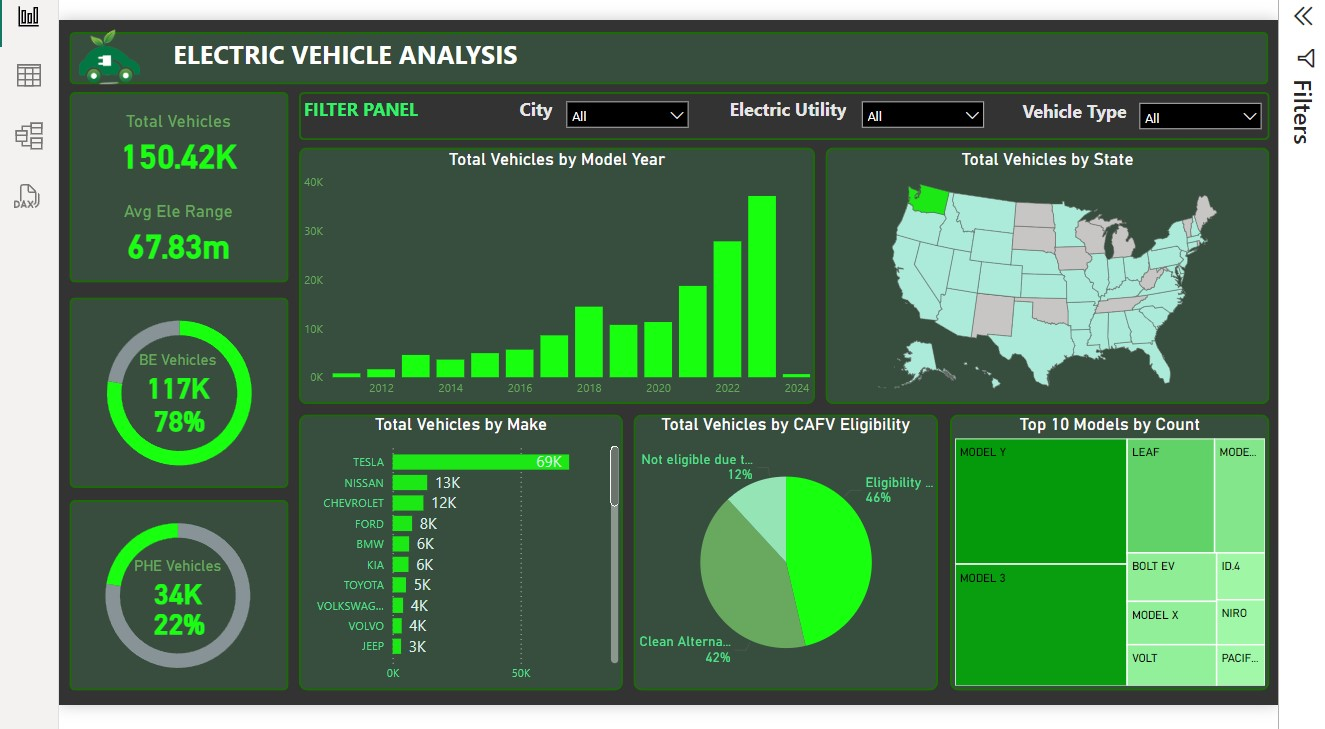

This screenshot's page, from the dashboard's own definition file:
{"tool":"powerbi","page":{"name":"Page 1","canvas":[1280,720],"ordinal":0},"visuals":[{"type":"shape","box":[11.5,12.9,1258.9,55],"z":0},{"type":"shape","box":[11,75.6,230,200],"z":1000},{"type":"textbox","box":[115,12.9,408.1,50.3],"z":2000},{"type":"shape","box":[11,291.4,230,200],"z":3000},{"type":"shape","box":[11,504,230,200],"z":4000},{"type":"card","title":"Total Vehicles","fields":{"Values":["Electric_Vehicle_Population_Data.Total Vehicles"]},"box":[34.7,96.1,181.1,69.3],"z":5000},{"type":"card","title":"Avg Ele Range","fields":{"Values":["Electric_Vehicle_Population_Data.Avg Range"]},"box":[34.7,190.6,181.1,69.3],"z":6000},{"type":"donutChart","fields":{"Category":["Electric_Vehicle_Population_Data.Electric Vehicle Type"],"Y":["Electric_Vehicle_Population_Data.Total Vehicles"]},"box":[11,291.4,230,200],"z":7000},{"type":"card","title":"BE Vehicles","fields":{"Values":["Electric_Vehicle_Population_Data.BEV vehicles"]},"box":[52,348.1,144.9,55.1],"z":8000},{"type":"card","title":"BE Vehicles","fields":{"Values":["Electric_Vehicle_Population_Data.% of BEV"]},"box":[53.6,392.2,144.9,55.1],"z":8001},{"type":"donutChart","fields":{"Category":["Electric_Vehicle_Population_Data.Electric Vehicle Type"],"Y":["Electric_Vehicle_Population_Data.Total Vehicles"]},"box":[9.5,504,230,200],"z":8002},{"type":"card","title":"PHE Vehicles","fields":{"Values":["Electric_Vehicle_Population_Data.PHEV"]},"box":[52,563.9,144.9,55.1],"z":8003},{"type":"card","title":"BE Vehicles","fields":{"Values":["Electric_Vehicle_Population_Data.% of PHEV"]},"box":[53.6,604.8,144.9,55.1],"z":8004},{"type":"shape","box":[252,75.6,1019.1,50.4],"z":8005},{"type":"shape","box":[252,133.9,541.8,269.3],"z":8006},{"type":"lineStackedColumnComboChart","fields":{"Y":["Electric_Vehicle_Population_Data.Total Vehicles"],"Category":["Electric_Vehicle_Population_Data.Model Year"]},"box":[252,135.5,541.8,269.3],"z":8007},{"type":"shape","box":[804.9,133.9,466.2,269.3],"z":8008},{"type":"shapeMap","fields":{"Category":["Electric_Vehicle_Population_Data.State"],"Value":["Electric_Vehicle_Population_Data.Total Vehicles"]},"box":[804.9,135.5,466.2,267.8],"z":8009},{"type":"shape","box":[252,414.2,340.2,289.8],"z":8010},{"type":"shape","box":[603.3,414.2,319.7,289.8],"z":8011},{"type":"clusteredBarChart","fields":{"Category":["Electric_Vehicle_Population_Data.Make"],"Y":["Electric_Vehicle_Population_Data.Total Vehicles"]},"box":[252,414.2,340.2,289.8],"z":8012},{"type":"pieChart","title":"Total Vehicles by CAFV Eligibility","fields":{"Category":["Electric_Vehicle_Population_Data.Clean Alternative Fuel Vehicle (CAFV) Eligibility"],"Y":["Electric_Vehicle_Population_Data.Total Vehicles"]},"box":[603.3,414.2,319.7,289.8],"z":8013},{"type":"shape","box":[935.6,414.2,335.5,289.8],"z":8014},{"type":"treemap","title":"Top 10 Models by Count","fields":{"Group":["Electric_Vehicle_Population_Data.Model"],"Values":["Electric_Vehicle_Population_Data.Total Vehicles"]},"box":[935.6,414.2,335.5,289.8],"z":8015},{"type":"textbox","box":[252,75.6,140.2,37.8],"z":8016},{"type":"slicer","title":"CITY","fields":{"Values":["Electric_Vehicle_Population_Data.City"]},"box":[522.9,75.6,148.1,50.4],"z":8017},{"type":"textbox","box":[461.5,75.6,61.4,50.4],"z":8018},{"type":"slicer","title":"CITY","fields":{"Values":["Electric_Vehicle_Population_Data.Electric Utility"]},"box":[844.2,75.6,148.1,50.4],"z":8019},{"type":"textbox","box":[699.3,75.6,144.9,50.4],"z":8020},{"type":"slicer","title":"CITY","fields":{"Values":["Electric_Vehicle_Population_Data.Electric Vehicle Type"]},"box":[1124.1,77.2,148.1,50.4],"z":8021},{"type":"textbox","box":[1003.3,77.2,121.3,50.4],"z":8022},{"type":"image","box":[15.8,4.3,74.7,67.5],"z":8023}]}

Visuals, with their boxes in screenshot pixels (x1, y1, x2, y2):
shape: [59, 40, 1270, 93]
shape: [59, 100, 280, 293]
textbox: [159, 40, 551, 88]
shape: [59, 308, 280, 500]
shape: [59, 512, 280, 705]
"Total Vehicles" card: [82, 120, 256, 187]
"Avg Ele Range" card: [82, 211, 256, 278]
donutChart - Electric_Vehicle_Population_Data.Electric Vehicle Type x Electric_Vehicle_Population_Data.Total Vehicles: [59, 308, 280, 500]
"BE Vehicles" card: [98, 362, 238, 415]
"BE Vehicles" card: [100, 405, 239, 458]
donutChart - Electric_Vehicle_Population_Data.Electric Vehicle Type x Electric_Vehicle_Population_Data.Total Vehicles: [57, 512, 279, 705]
"PHE Vehicles" card: [98, 570, 238, 623]
"BE Vehicles" card: [100, 609, 239, 662]
shape: [291, 100, 1271, 149]
shape: [291, 156, 812, 415]
lineStackedColumnComboChart - Electric_Vehicle_Population_Data.Total Vehicles x Electric_Vehicle_Population_Data.Model Year: [291, 158, 812, 417]
shape: [823, 156, 1271, 415]
shapeMap - Electric_Vehicle_Population_Data.State x Electric_Vehicle_Population_Data.Total Vehicles: [823, 158, 1271, 416]
shape: [291, 426, 618, 705]
shape: [629, 426, 936, 705]
clusteredBarChart - Electric_Vehicle_Population_Data.Make x Electric_Vehicle_Population_Data.Total Vehicles: [291, 426, 618, 705]
"Total Vehicles by CAFV Eligibility" pieChart: [629, 426, 936, 705]
shape: [948, 426, 1271, 705]
"Top 10 Models by Count" treemap: [948, 426, 1271, 705]
textbox: [291, 100, 426, 137]
"CITY" slicer: [551, 100, 694, 149]
textbox: [492, 100, 551, 149]
"CITY" slicer: [860, 100, 1003, 149]
textbox: [721, 100, 860, 149]
"CITY" slicer: [1130, 102, 1272, 150]
textbox: [1013, 102, 1130, 150]
image: [64, 32, 135, 97]
